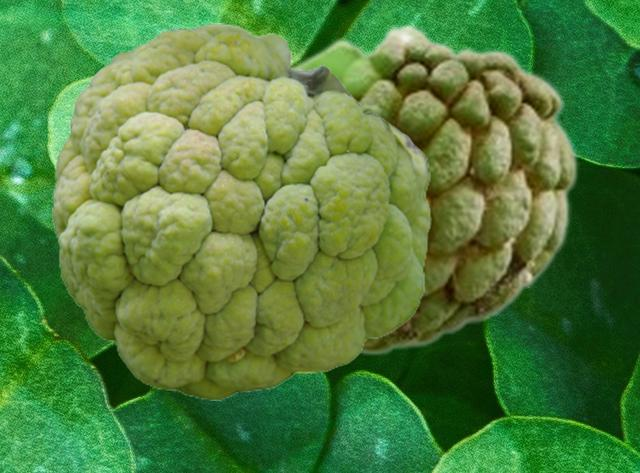atis: (52, 23, 430, 399), (291, 22, 578, 355)
